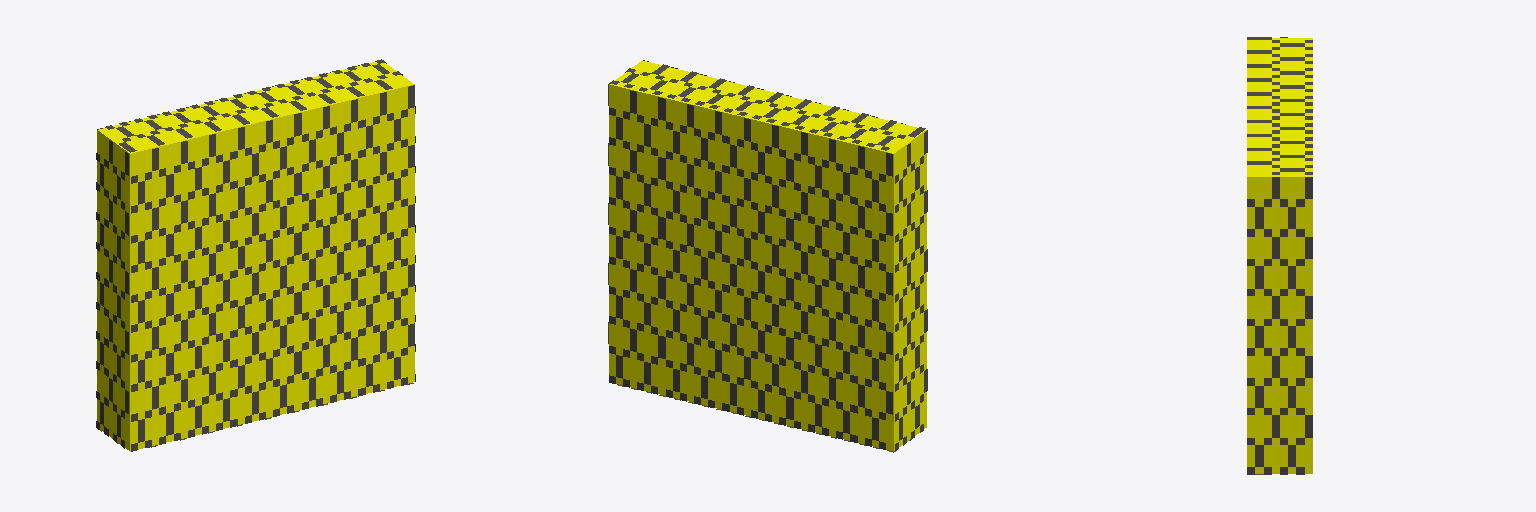
3 views of the same model, side by side, from view 1: azimuth 30°, elevation 25°; view 2: azimuth 150°, elevation 25°; view 3: azimuth 270°, elevation 25° (orthographic).
Parts seen in each view (by area): view 1: Electricfence1, Electricfence6, Electricfence3, Electricfence2; view 2: Electricfence1, Electricfence4, Electricfence3, Electricfence2; view 3: Electricfence1, Electricfence5, Electricfence2.
Boxes of the visible parts, x1,y1,x2,y2 form: Electricfence1: [97, 62, 414, 451]; Electricfence6: [131, 85, 414, 451]; Electricfence3: [96, 140, 128, 448]; Electricfence2: [105, 59, 400, 152]; Electricfence1: [609, 60, 926, 451]; Electricfence4: [609, 90, 892, 449]; Electricfence3: [895, 130, 927, 450]; Electricfence2: [610, 64, 925, 150]; Electricfence1: [1247, 38, 1312, 473]; Electricfence5: [1247, 177, 1312, 474]; Electricfence2: [1247, 37, 1312, 174].
Bounding box in the file's own units: 5.04 × 5.04 × 1.04.
Materials: 2 (1 with a texture image).